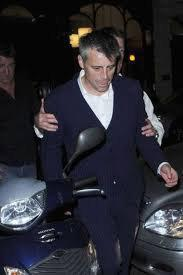Drunk: (89, 45, 115, 92)
